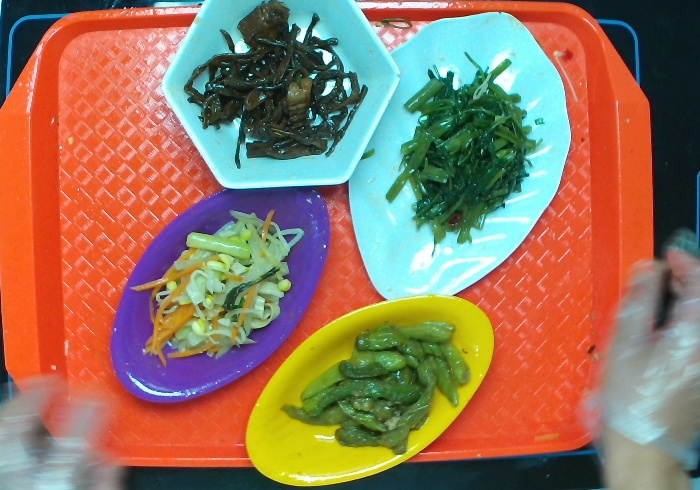RJxy-Bai_Ye_Pan: (340, 1, 580, 306)
RJxy-Fen_Hong_Tuo_Yuan: (105, 169, 335, 409)
RJxy-Huang_Se_Tuo_Yuan: (241, 288, 491, 490)
RJxy-Liu_Jiao_Wan: (154, 1, 403, 195)
